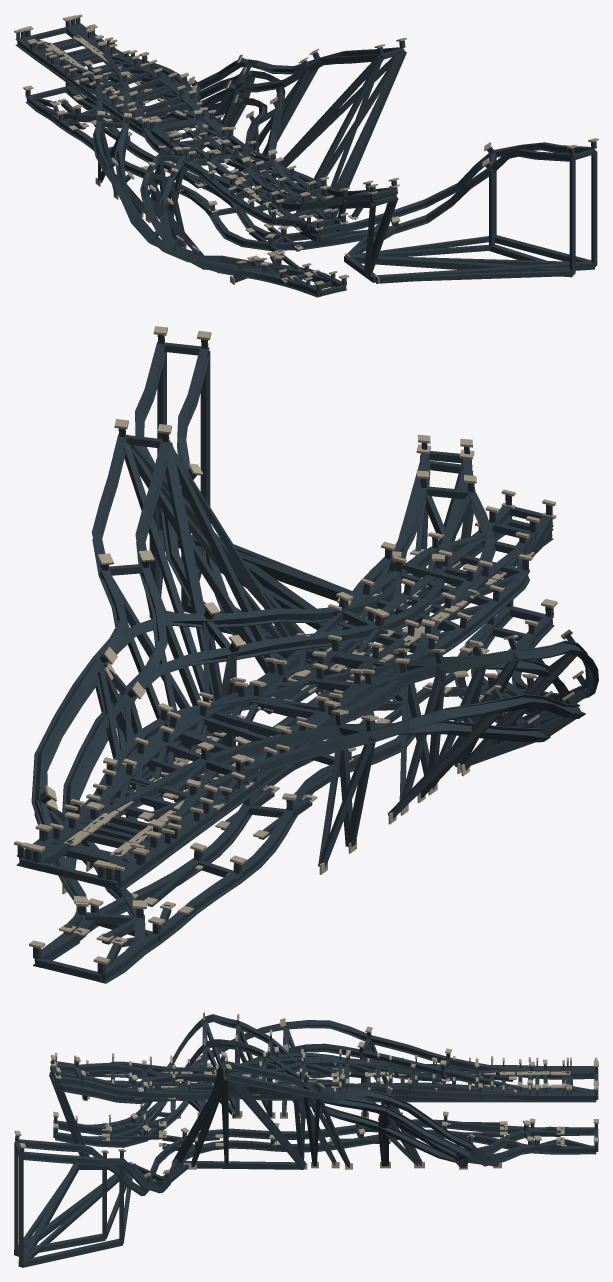
Rendered from route-supports.glb.
The picture shows the model from 3 angles, top to bottom: view 1: azimuth 30°, elevation 25°; view 2: azimuth 150°, elevation 25°; view 3: azimuth 270°, elevation 25°; orthographic projection. The views are drawn at different scales.
Visible parts, largest first — view 1: nomad-saltwind__navy_structural_steel, nomad-overtaking-wall__navy_structural_steel, nomad-portside-dive__navy_structural_steel, nomad-passing-deck__navy_structural_steel, nomad-lower-hold__navy_structural_steel, nomad-shoulder-ascent__navy_structural_steel, nomad-high-balcony__navy_structural_steel, nomad-terminus__navy_structural_steel, nomad-portside-dive__rubbed_warm_alloy, nomad-terminus__rubbed_warm_alloy, nomad-passing-deck__rubbed_warm_alloy, nomad-high-balcony__rubbed_warm_alloy (+3 smaller); view 2: nomad-overtaking-wall__navy_structural_steel, nomad-saltwind__navy_structural_steel, nomad-lower-hold__navy_structural_steel, nomad-portside-dive__navy_structural_steel, nomad-passing-deck__navy_structural_steel, nomad-shoulder-ascent__navy_structural_steel, nomad-high-balcony__navy_structural_steel, nomad-terminus__navy_structural_steel, nomad-terminus__rubbed_warm_alloy, nomad-passing-deck__rubbed_warm_alloy, nomad-high-balcony__rubbed_warm_alloy, nomad-portside-dive__rubbed_warm_alloy (+4 smaller); view 3: nomad-saltwind__navy_structural_steel, nomad-overtaking-wall__navy_structural_steel, nomad-shoulder-ascent__navy_structural_steel, nomad-lower-hold__navy_structural_steel, nomad-portside-dive__navy_structural_steel, nomad-high-balcony__navy_structural_steel, nomad-passing-deck__navy_structural_steel, nomad-terminus__navy_structural_steel, nomad-portside-dive__rubbed_warm_alloy, nomad-saltwind__rubbed_warm_alloy, nomad-high-balcony__rubbed_warm_alloy, nomad-lower-hold__rubbed_warm_alloy (+4 smaller).
Boxes of the visible parts, x1,y1,x2,y2 form: nomad-saltwind__navy_structural_steel: (25,82,597,283); nomad-overtaking-wall__navy_structural_steel: (26,40,406,240); nomad-portside-dive__navy_structural_steel: (16,19,342,296); nomad-passing-deck__navy_structural_steel: (15,17,346,234); nomad-lower-hold__navy_structural_steel: (25,20,346,297); nomad-shoulder-ascent__navy_structural_steel: (25,70,398,278); nomad-high-balcony__navy_structural_steel: (21,19,397,278); nomad-terminus__navy_structural_steel: (21,29,346,242); nomad-portside-dive__rubbed_warm_alloy: (14,14,347,284); nomad-terminus__rubbed_warm_alloy: (36,15,348,230); nomad-passing-deck__rubbed_warm_alloy: (14,15,348,231); nomad-high-balcony__rubbed_warm_alloy: (18,15,398,275); nomad-overtaking-wall__navy_structural_steel: (31,428,337,983); nomad-saltwind__navy_structural_steel: (33,334,432,982); nomad-lower-hold__navy_structural_steel: (33,600,585,887); nomad-portside-dive__navy_structural_steel: (17,601,598,891); nomad-passing-deck__navy_structural_steel: (16,494,553,890); nomad-shoulder-ascent__navy_structural_steel: (34,460,473,983); nomad-high-balcony__navy_structural_steel: (25,443,495,883); nomad-terminus__navy_structural_steel: (30,517,553,889); nomad-terminus__rubbed_warm_alloy: (22,503,556,868); nomad-passing-deck__rubbed_warm_alloy: (14,489,555,871); nomad-high-balcony__rubbed_warm_alloy: (21,434,477,869); nomad-portside-dive__rubbed_warm_alloy: (14,600,583,869); nomad-saltwind__navy_structural_steel: (14,1116,598,1267); nomad-overtaking-wall__navy_structural_steel: (172,1056,598,1169); nomad-shoulder-ascent__navy_structural_steel: (49,1070,593,1168); nomad-lower-hold__navy_structural_steel: (53,1020,598,1147); nomad-portside-dive__navy_structural_steel: (54,1014,598,1143); nomad-high-balcony__navy_structural_steel: (50,1052,597,1156); nomad-passing-deck__navy_structural_steel: (55,1054,598,1102); nomad-terminus__navy_structural_steel: (71,1057,595,1093); nomad-portside-dive__rubbed_warm_alloy: (55,1012,597,1141); nomad-saltwind__rubbed_warm_alloy: (14,1111,598,1177); nomad-high-balcony__rubbed_warm_alloy: (51,1046,598,1099); nomad-lower-hold__rubbed_warm_alloy: (53,1018,598,1140).
Bounding box in the file's own units: 561 × 255 × 823.
